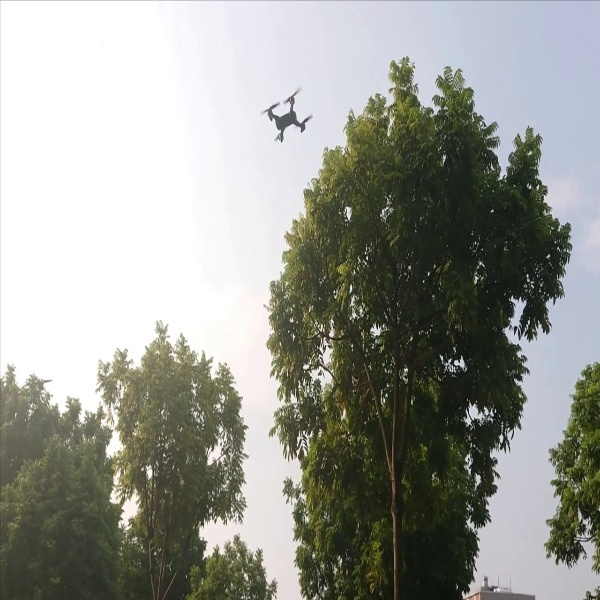drone: (258, 86, 317, 155)
